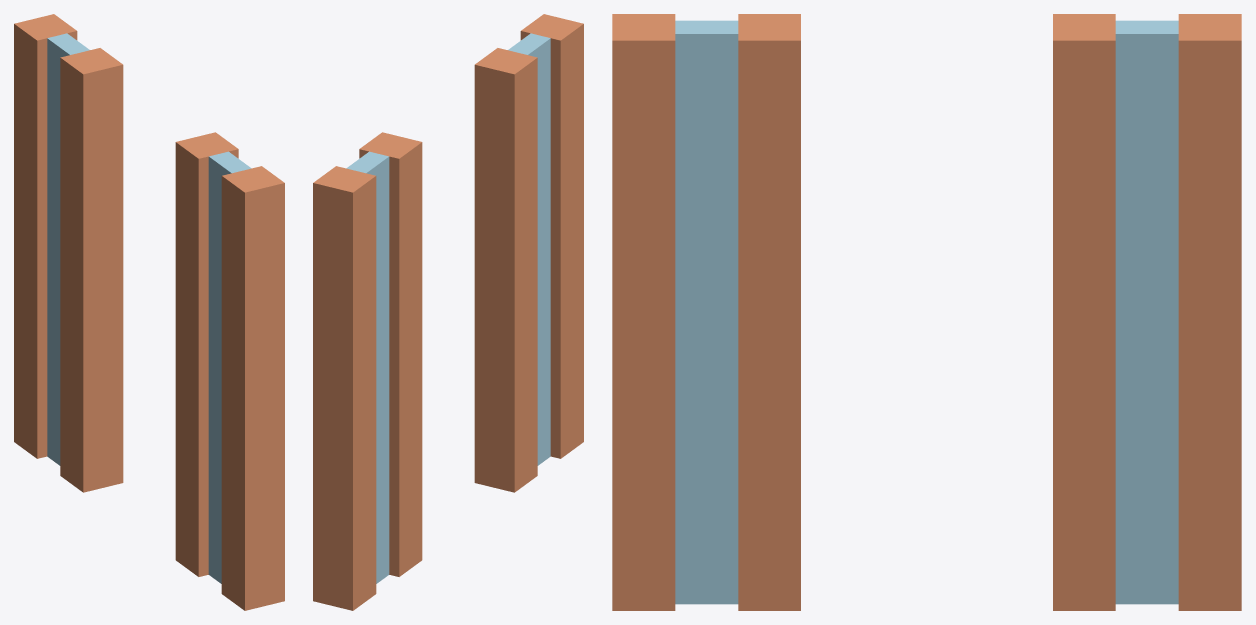
The model's file is wallDoorwayBase.glb.
The picture shows the model from 3 angles, left to right: view 1: azimuth 30°, elevation 25°; view 2: azimuth 150°, elevation 25°; view 3: azimuth 270°, elevation 25°; orthographic projection. The views are drawn at different scales.
Parts seen in each view (by area): view 1: wallDoorwayBase; view 2: wallDoorwayBase; view 3: wallDoorwayBase.
Part boxes in pixels (x1,y1,x2,y2): wallDoorwayBase: (14, 14, 284, 610); wallDoorwayBase: (313, 14, 583, 610); wallDoorwayBase: (612, 14, 1241, 610).
Bounding box in the file's own units: 0.3 × 3 × 3.
